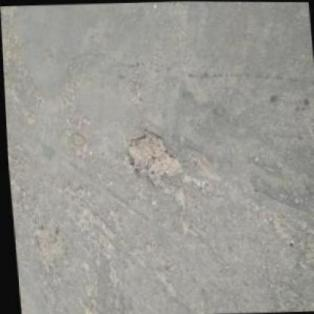Hueco: (124, 130, 182, 189), (30, 225, 67, 265)
